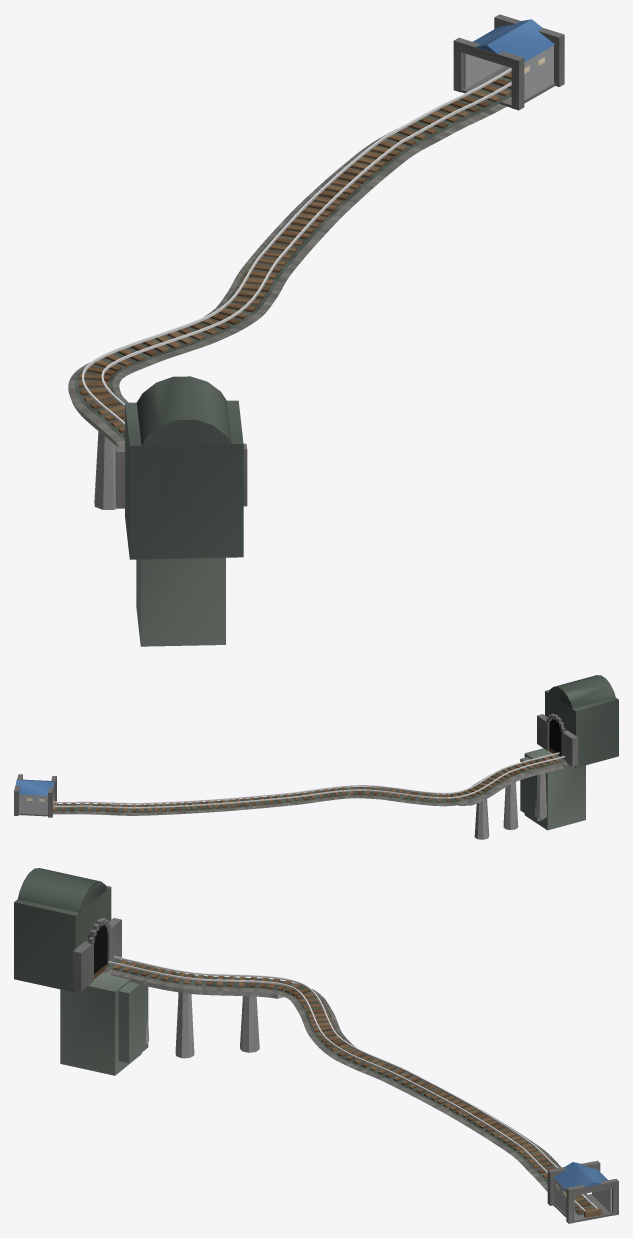
The model's file is Rail_P1.fbx.
3 views of the same model, one above another, from view 1: azimuth 30°, elevation 25°; view 2: azimuth 150°, elevation 25°; view 3: azimuth 270°, elevation 25° (orthographic). The views are drawn at different scales.
Visible parts, largest first — view 1: Rail.Portal, Rail.Sleepers, Rail.Shed, Rail.Ballast, Rail.Bed, Rail.Rail.001, Rail.Rail, Rail.Piers; view 2: Rail.Portal, Rail.Sleepers, Rail.Bed, Rail.Ballast, Rail.Shed, Rail.Piers, Rail.Rail.001, Rail.Rail, Rail.Deck0; view 3: Rail.Portal, Rail.Sleepers, Rail.Bed, Rail.Shed, Rail.Ballast, Rail.Piers, Rail.Rail, Rail.Rail.001, Rail.Deck0.
Boxes of the visible parts, left/top/right/bottom form: Rail.Portal: left=115, top=376, right=247, bottom=646; Rail.Sleepers: left=78, top=72, right=511, bottom=436; Rail.Shed: left=453, top=14, right=564, bottom=110; Rail.Ballast: left=68, top=104, right=506, bottom=446; Rail.Bed: left=75, top=71, right=511, bottom=440; Rail.Rail.001: left=82, top=68, right=511, bottom=425; Rail.Rail: left=101, top=82, right=511, bottom=407; Rail.Piers: left=94, top=431, right=116, bottom=509; Rail.Portal: left=520, top=675, right=618, bottom=830; Rail.Sleepers: left=53, top=755, right=560, bottom=812; Rail.Bed: left=53, top=754, right=566, bottom=812; Rail.Ballast: left=53, top=755, right=568, bottom=815; Rail.Shed: left=14, top=774, right=56, bottom=817; Rail.Piers: left=474, top=773, right=546, bottom=839; Rail.Rail.001: left=53, top=756, right=564, bottom=808; Rail.Rail: left=53, top=752, right=559, bottom=804; Rail.Deck0: left=459, top=765, right=562, bottom=805; Rail.Portal: left=14, top=868, right=148, bottom=1075; Rail.Sleepers: left=113, top=960, right=594, bottom=1212; Rail.Bed: left=105, top=959, right=603, bottom=1215; Rail.Shed: left=547, top=1160, right=618, bottom=1223; Rail.Ballast: left=103, top=959, right=587, bottom=1194; Rail.Piers: left=145, top=992, right=259, bottom=1058; Rail.Rail: left=108, top=961, right=585, bottom=1211; Rail.Rail.001: left=113, top=956, right=597, bottom=1208; Rail.Deck0: left=111, top=974, right=284, bottom=998.
Bounding box in the file's own units: 16590 × 4946 × 15671.
